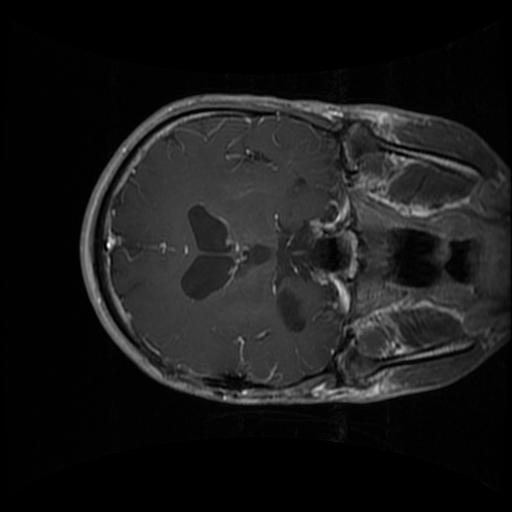glioma: (276, 290, 306, 337)
